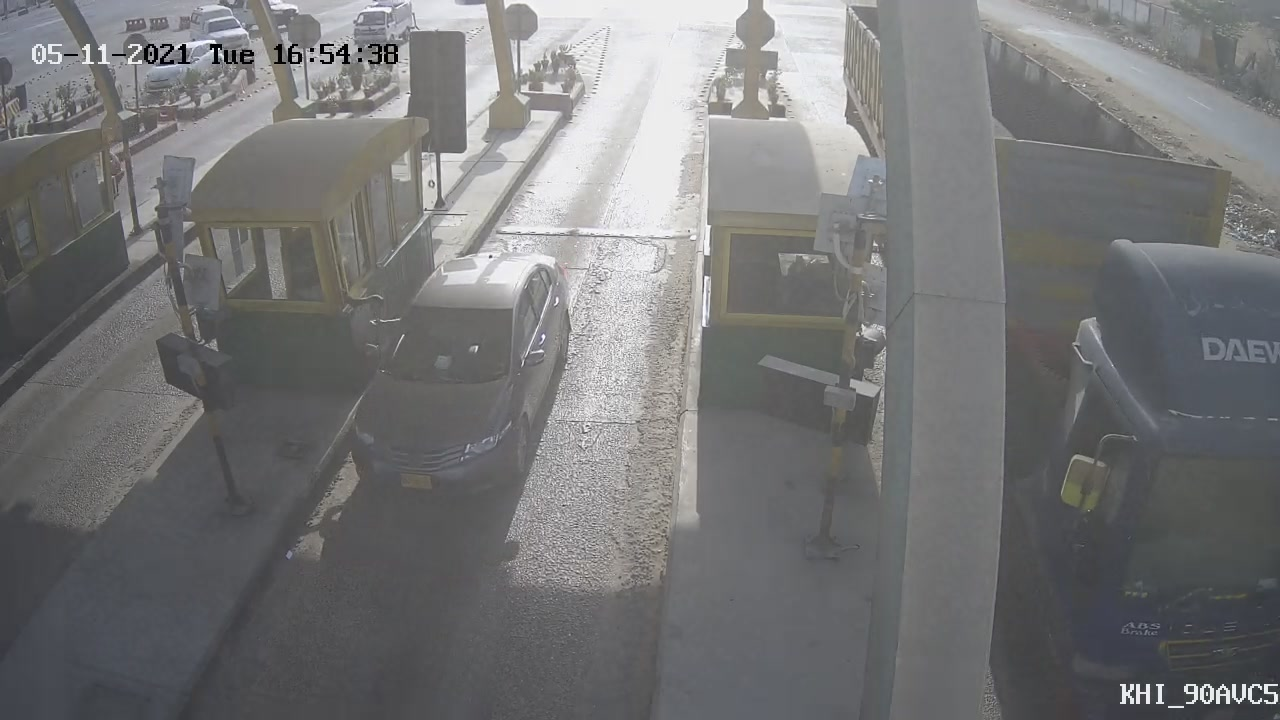F1: (326, 233, 586, 518)
